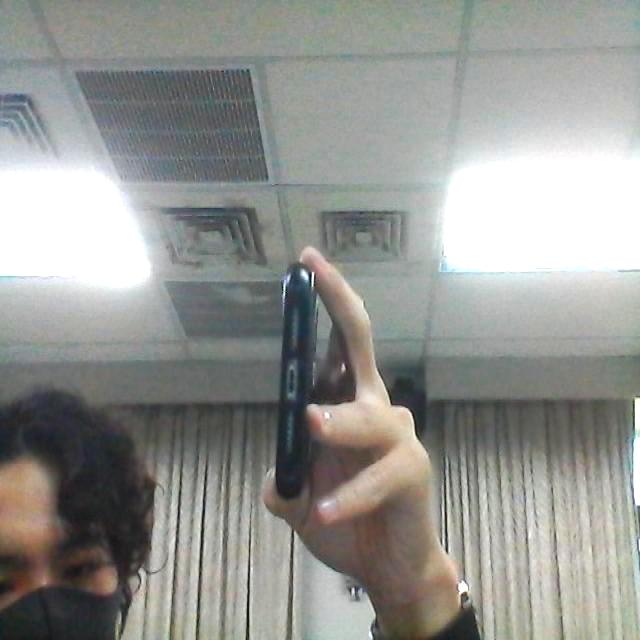phone: (272, 260, 318, 508)
